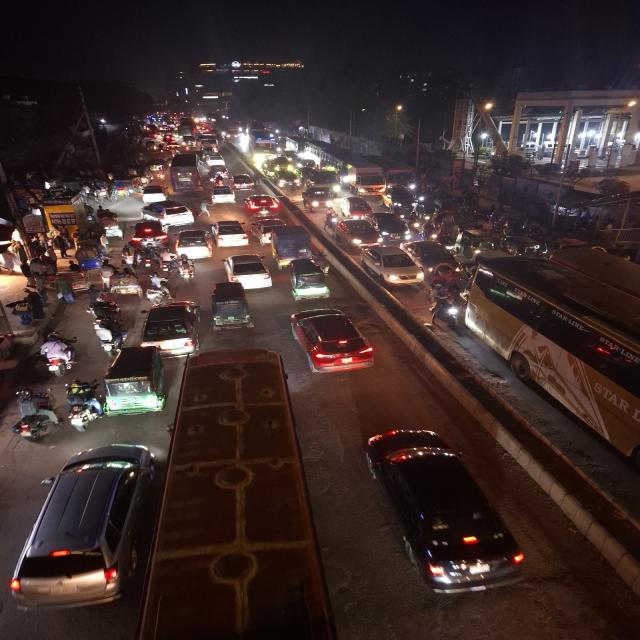bus: (160, 346, 316, 640), (170, 152, 202, 192), (316, 146, 352, 172), (387, 163, 416, 193), (251, 134, 276, 164)
car: (354, 424, 533, 600), (12, 441, 161, 610), (285, 305, 377, 378), (140, 301, 200, 355), (359, 244, 424, 290), (221, 251, 274, 292), (408, 240, 460, 274), (334, 218, 384, 248), (210, 217, 251, 249), (141, 200, 195, 224), (173, 227, 212, 260), (372, 212, 410, 240), (130, 220, 169, 244), (243, 194, 281, 216), (384, 188, 417, 210), (344, 197, 373, 221), (209, 184, 237, 206), (137, 184, 169, 202), (273, 170, 300, 190), (230, 172, 256, 190), (204, 154, 227, 168)
cng: (100, 345, 168, 419), (209, 280, 256, 334), (285, 257, 332, 302), (504, 233, 540, 257)
motorcycle: (11, 388, 59, 443), (63, 379, 101, 433), (37, 333, 80, 379), (424, 286, 462, 332), (106, 268, 141, 300), (85, 283, 113, 321), (92, 318, 122, 353), (143, 271, 171, 305), (171, 251, 198, 285), (138, 243, 161, 270), (119, 244, 140, 270), (323, 208, 337, 230), (211, 174, 227, 186), (207, 171, 220, 185)
pedestrian: (51, 272, 79, 308), (98, 260, 116, 290)
pickup_van: (300, 186, 332, 212)
rickshaw: (71, 242, 106, 276), (109, 268, 141, 300), (98, 211, 125, 239), (109, 180, 135, 200)
truck: (266, 224, 315, 266), (302, 169, 342, 208), (349, 163, 386, 196)
